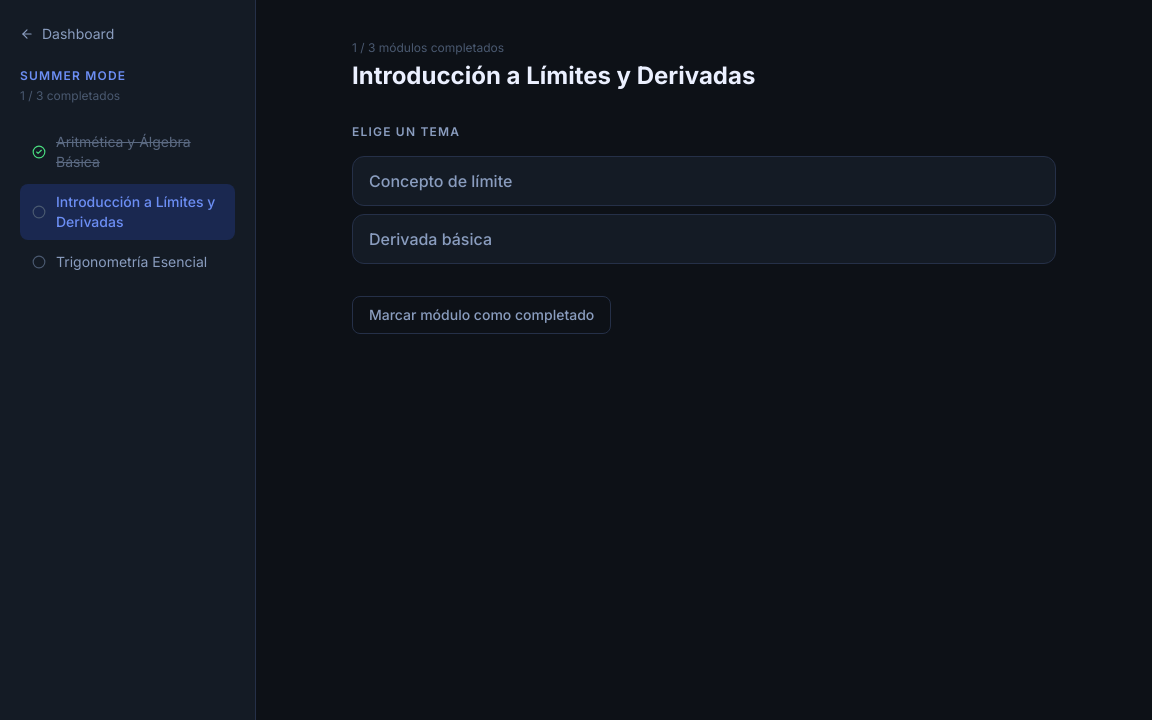
Test: SummerModuleSession › shows mode pills after topic selection
Click the button "Concepto de límite" at (441, 181), box [352,156,1056,206]
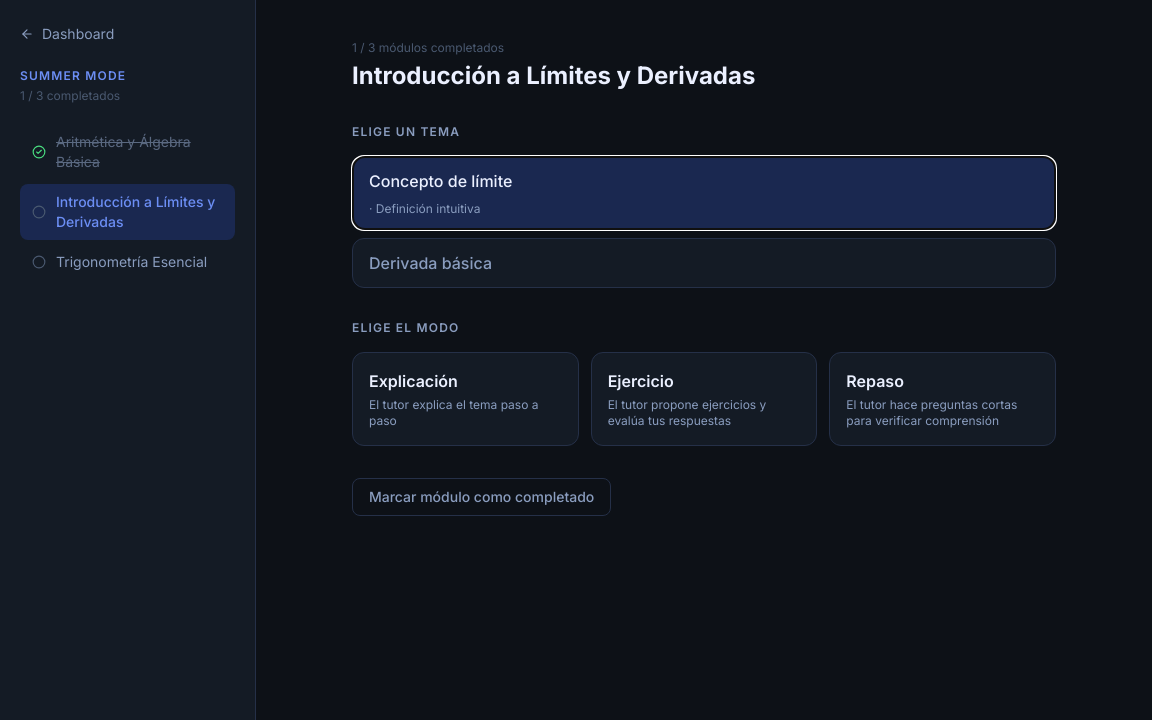
Now the text "Explicación" is shown, box [369,371,458,391]
Now the text "Ejercicio" is shown, box [608,371,674,391]
Now the text "Repaso" is shown, box [846,371,904,391]
